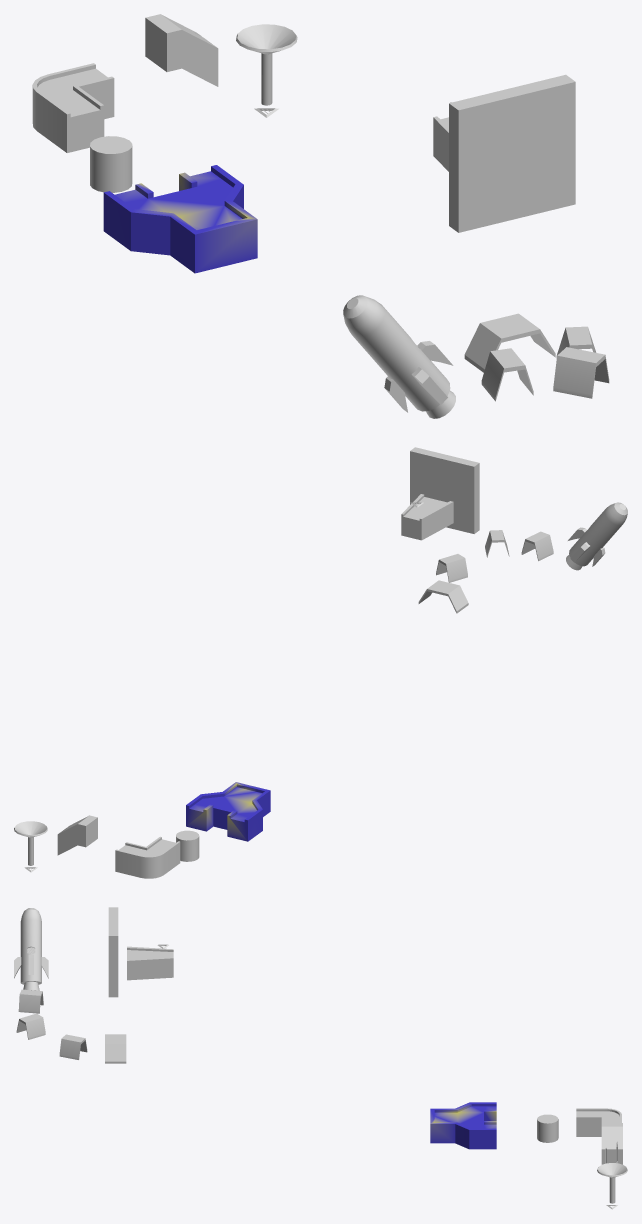
The model's file is GolfScenario.fbx.
3 renders of one model, top to bottom at view 1: azimuth 30°, elevation 25°; view 2: azimuth 150°, elevation 25°; view 3: azimuth 270°, elevation 25°, orthographic. The views are drawn at different scales.
Parts seen in each view (by area): view 1: Pared, Inicio, Cohete, Curva, Rampa, Cilindro, Trapecio1, Trapecio3, Embudo, Trapecio4, Inicio2, Trapecio2; view 2: Pared, Inicio, Curva, Cohete, Inicio2, Rampa, Trapecio1, Trapecio2, Cilindro, Trapecio4, Embudo; view 3: Inicio, Cohete, Inicio2, Curva, Pared, Rampa, Trapecio1, Cilindro, Trapecio2, Trapecio3, Trapecio4, Embudo.
Part boxes in pixels (x1=…): Pared: x1=449, y1=74, x2=575, y2=232; Inicio: x1=103, y1=165, x2=257, y2=273; Cohete: x1=343, y1=295, x2=455, y2=418; Curva: x1=32, y1=63, x2=114, y2=152; Rampa: x1=145, y1=14, x2=218, y2=86; Cilindro: x1=90, y1=136, x2=132, y2=192; Trapecio1: x1=464, y1=313, x2=555, y2=372; Trapecio3: x1=553, y1=347, x2=609, y2=398; Embudo: x1=236, y1=24, x2=297, y2=105; Trapecio4: x1=481, y1=348, x2=533, y2=401; Inicio2: x1=433, y1=116, x2=448, y2=171; Trapecio2: x1=556, y1=326, x2=596, y2=357; Pared: x1=410, y1=447, x2=479, y2=533; Inicio: x1=186, y1=782, x2=270, y2=841; Curva: x1=115, y1=836, x2=180, y2=878; Cohete: x1=566, y1=502, x2=627, y2=570; Inicio2: x1=401, y1=494, x2=453, y2=540; Rampa: x1=57, y1=815, x2=97, y2=855; Trapecio1: x1=418, y1=580, x2=468, y2=613; Trapecio2: x1=436, y1=554, x2=467, y2=582; Cilindro: x1=176, y1=830, x2=199, y2=861; Trapecio4: x1=521, y1=531, x2=553, y2=561; Embudo: x1=14, y1=821, x2=47, y2=865; Inicio: x1=430, y1=1102, x2=496, y2=1149; Cohete: x1=14, y1=908, x2=48, y2=990; Inicio2: x1=127, y1=946, x2=173, y2=980; Curva: x1=576, y1=1108, x2=621, y2=1136; Pared: x1=108, y1=907, x2=118, y2=997; Rampa: x1=601, y1=1123, x2=622, y2=1164; Trapecio1: x1=105, y1=1034, x2=126, y2=1063; Cilindro: x1=537, y1=1114, x2=558, y2=1142; Trapecio2: x1=59, y1=1034, x2=87, y2=1059; Trapecio3: x1=16, y1=1013, x2=45, y2=1039; Trapecio4: x1=18, y1=989, x2=43, y2=1013; Embudo: x1=597, y1=1163, x2=627, y2=1203.
Size of the model in its own units: 2851 by 2303 by 5727.
